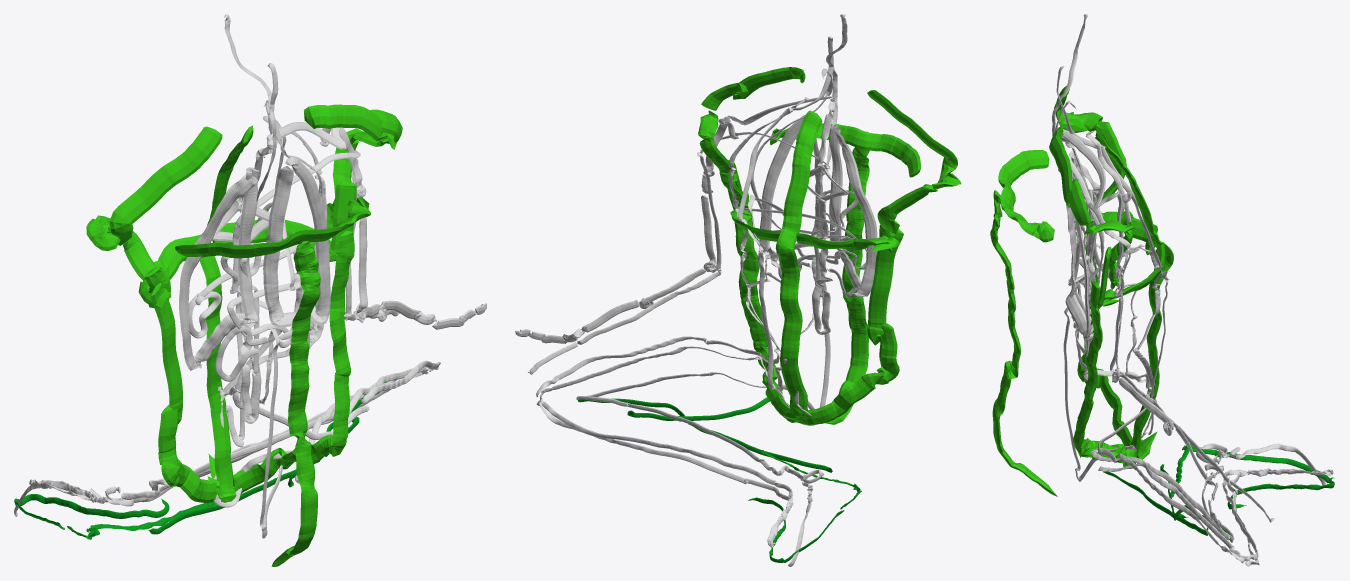
Rendered from Mer-All.fbx.
3 views of the same model, side by side, from view 1: azimuth 30°, elevation 25°; view 2: azimuth 150°, elevation 25°; view 3: azimuth 270°, elevation 25° (orthographic). The views are drawn at different scales.
Visible parts, largest first — view 1: body-shape, lung, mer (×3), lung-mer, kidney-mer, organ (×3), kidney-model; view 2: body-shape, mer (×3), lung-mer, lung, kidney-mer; view 3: body-shape, mer (×3), kidney-mer, lung-mer, lung.
Part boxes in pixels (bbox=[...]): body-shape: bbox=[14, 104, 402, 566]; lung: bbox=[179, 157, 330, 370]; mer (×3): bbox=[29, 14, 440, 507]; lung-mer: bbox=[212, 122, 486, 423]; kidney-mer: bbox=[14, 63, 394, 538]; organ (×3): bbox=[188, 243, 323, 348]; kidney-model: bbox=[215, 325, 309, 381]; body-shape: bbox=[578, 67, 961, 562]; mer (×3): bbox=[528, 14, 857, 547]; lung-mer: bbox=[515, 95, 849, 343]; lung: bbox=[759, 114, 877, 297]; kidney-mer: bbox=[576, 36, 833, 566]; body-shape: bbox=[990, 85, 1334, 542]; mer (×3): bbox=[1052, 14, 1333, 566]; kidney-mer: bbox=[1056, 66, 1326, 541]; lung-mer: bbox=[1061, 129, 1221, 527]; lung: bbox=[1058, 150, 1095, 341].
Size of the model in its own units: 0.7318 by 0.8523 by 0.5309.
